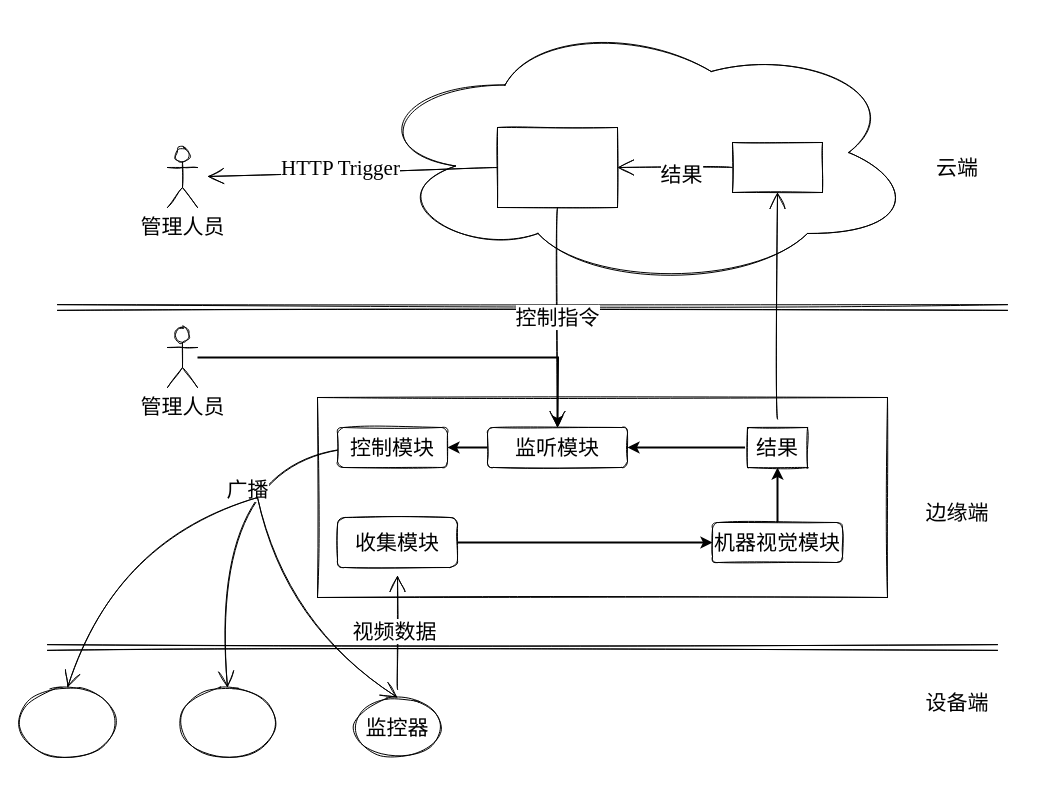
The diagram is 1040 pixels wide and 785 high, and some of its shapes have lost their labels. Here are the shapes that lost their labels. From the top down, the box of each, then its label:
(496, 126, 618, 208): 分发模块
(732, 142, 822, 192): 数据库
(16, 686, 118, 758): 警示牌
(176, 686, 278, 758): 司机设备
